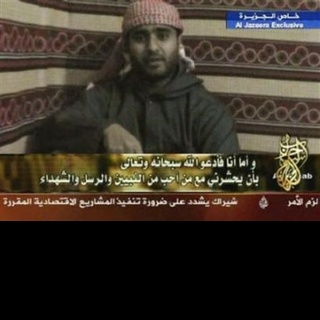without_mask: (97, 0, 194, 76)
